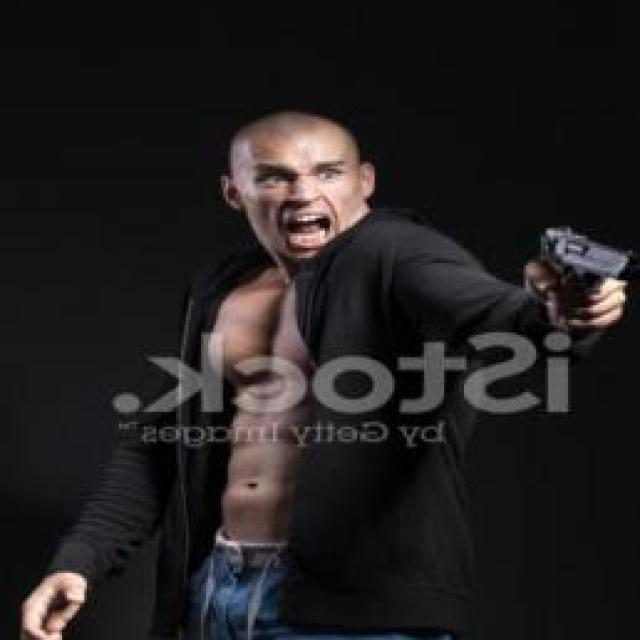pistol: (538, 225, 640, 302)
